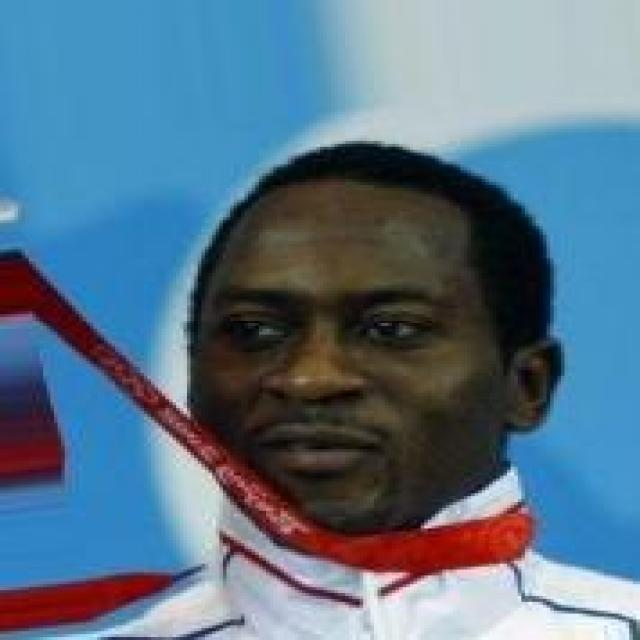nomask: (162, 129, 572, 567)
